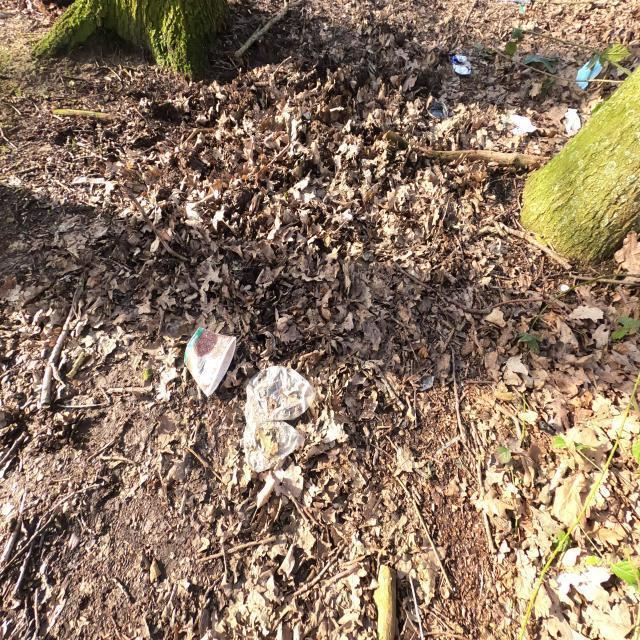Can-Metal: (451, 51, 472, 76)
Cup: (179, 322, 240, 400)
Mask: (574, 57, 604, 91)
Paper: (242, 364, 318, 476)
